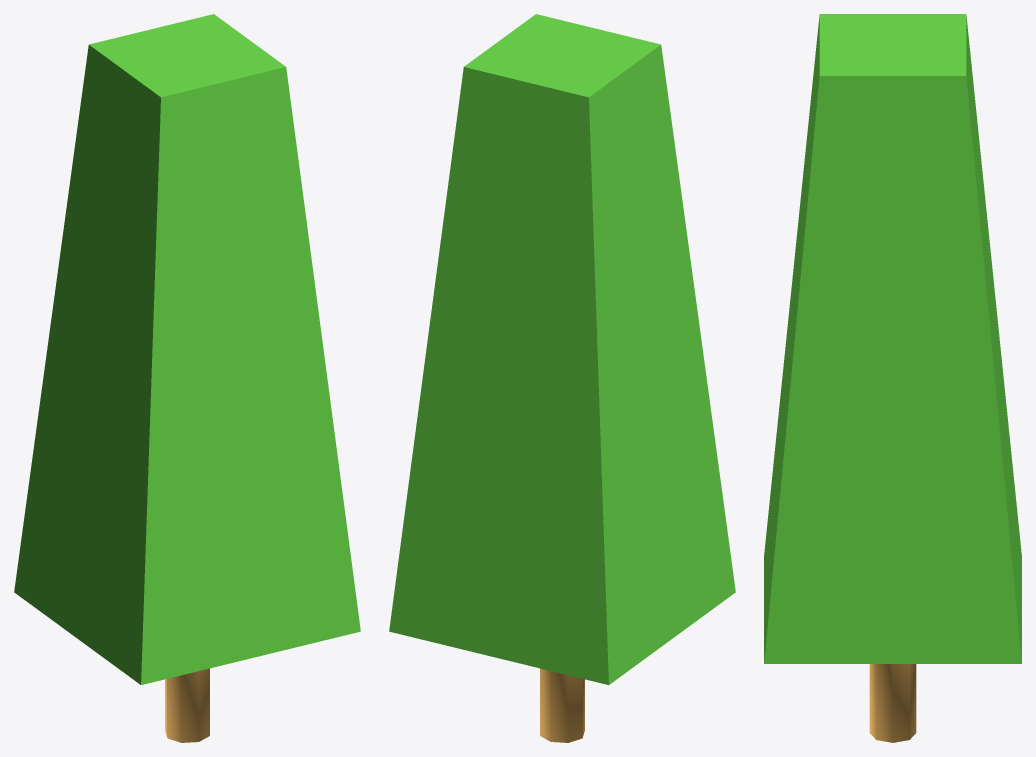
The model's file is Prop_Tree_07.fbx.
The picture shows the model from 3 angles, left to right: view 1: azimuth 30°, elevation 25°; view 2: azimuth 150°, elevation 25°; view 3: azimuth 270°, elevation 25°; orthographic projection.
Visible parts, largest first — view 1: Prop_Tree_07; view 2: Prop_Tree_07; view 3: Prop_Tree_07.
Part boxes in pixels (x1,y1,x2,y2): Prop_Tree_07: [14, 14, 360, 742]; Prop_Tree_07: [389, 14, 735, 742]; Prop_Tree_07: [764, 14, 1021, 742].
Size of the model in its own units: 170 by 502 by 170.
